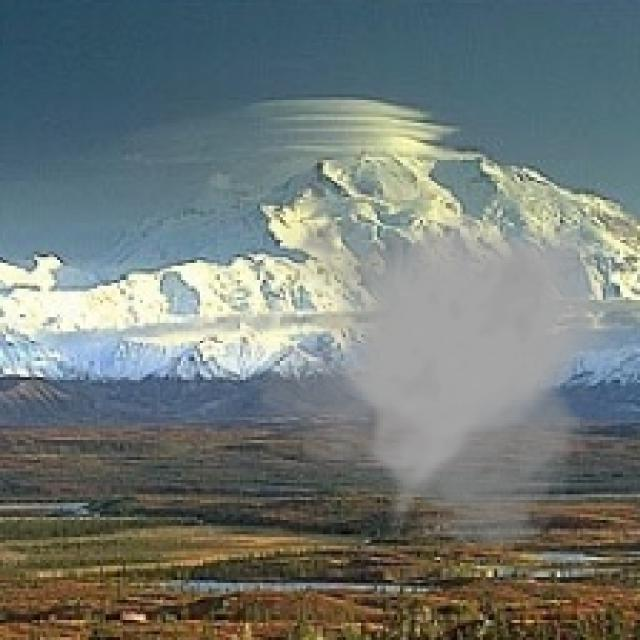smoke: (257, 206, 620, 554)
